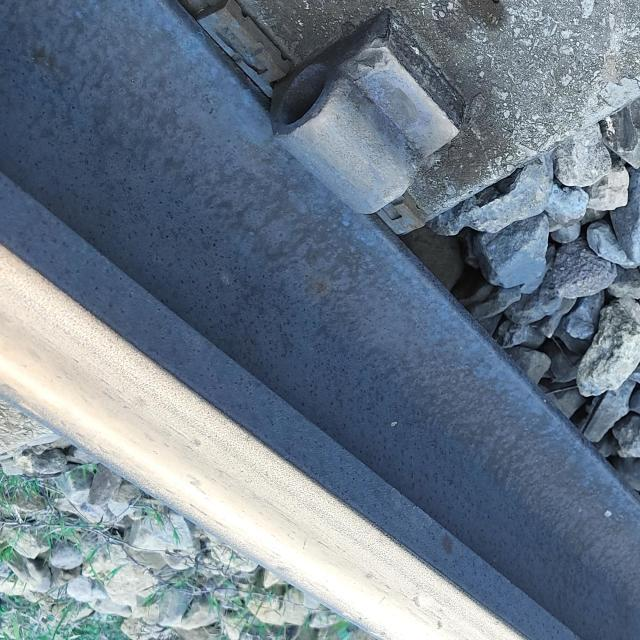Missing Fastener: (258, 16, 481, 249)
